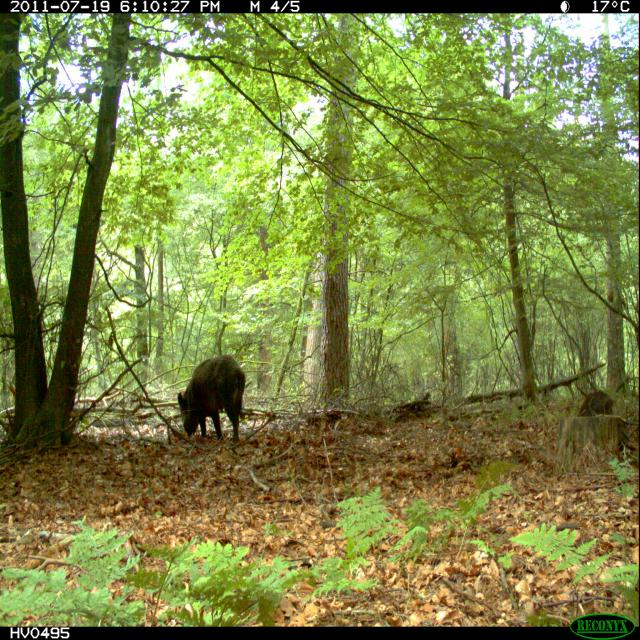boar: (162, 333, 262, 456), (561, 403, 640, 470), (574, 379, 614, 426)
